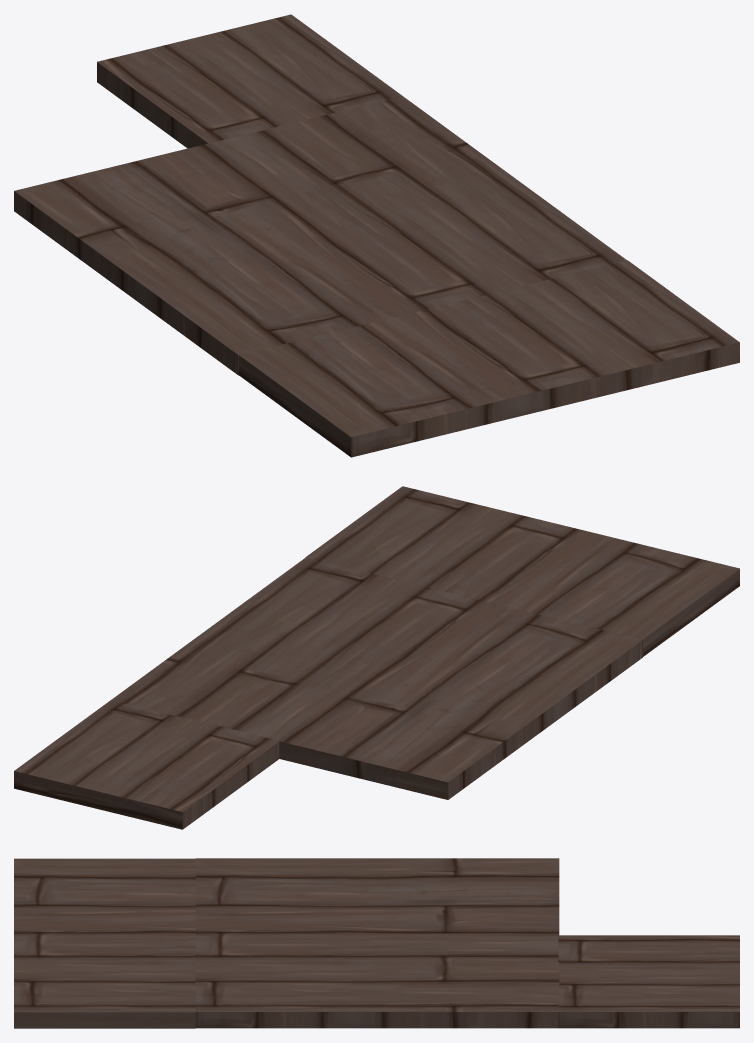
The model's file is House_ModulesFloorfbx.fbx.
3 views of the same model, one above another, from view 1: azimuth 30°, elevation 25°; view 2: azimuth 150°, elevation 25°; view 3: azimuth 270°, elevation 25° (orthographic). The views are drawn at different scales.
Visible parts, largest first — view 1: Floor2, Floor3, Floor; view 2: Floor2, Floor3, Floor; view 3: Floor2, Floor3, Floor.
Boxes of the visible parts, x1,y1,x2,y2 form: Floor2: (14, 96, 626, 375); Floor3: (239, 260, 739, 457); Floor: (97, 14, 402, 148); Floor2: (111, 557, 642, 799); Floor3: (305, 486, 739, 656); Floor: (14, 700, 279, 829); Floor2: (195, 858, 559, 1028); Floor3: (14, 858, 195, 1028); Floor: (558, 935, 739, 1028).
Size of the model in its own units: 2 by 0.1 by 3.99.
